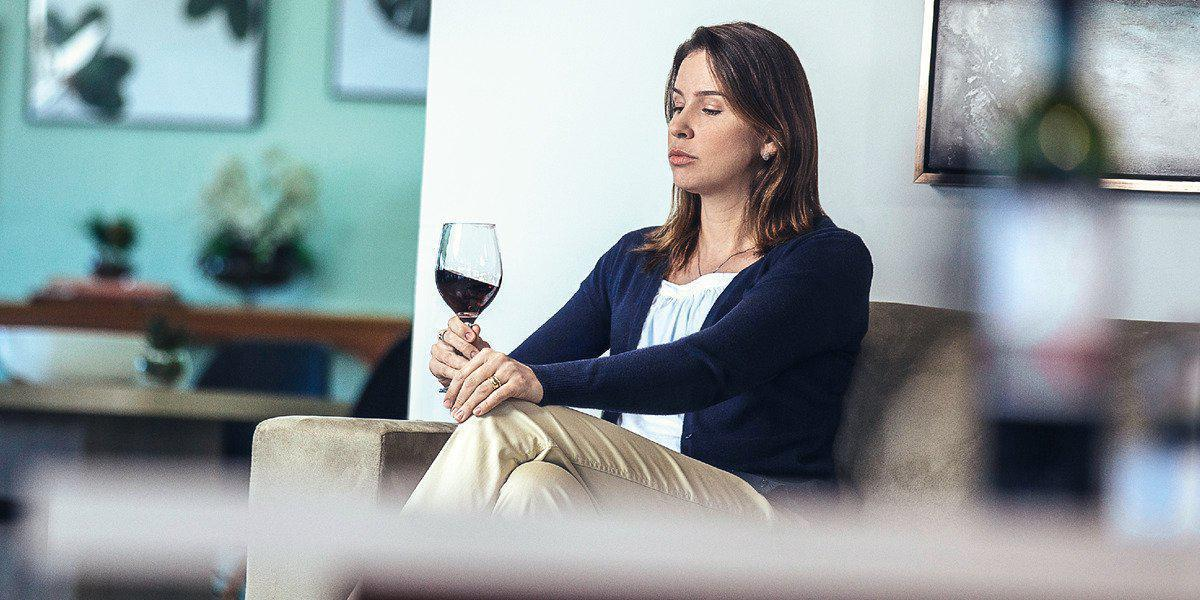Drunk: (659, 54, 753, 196)
